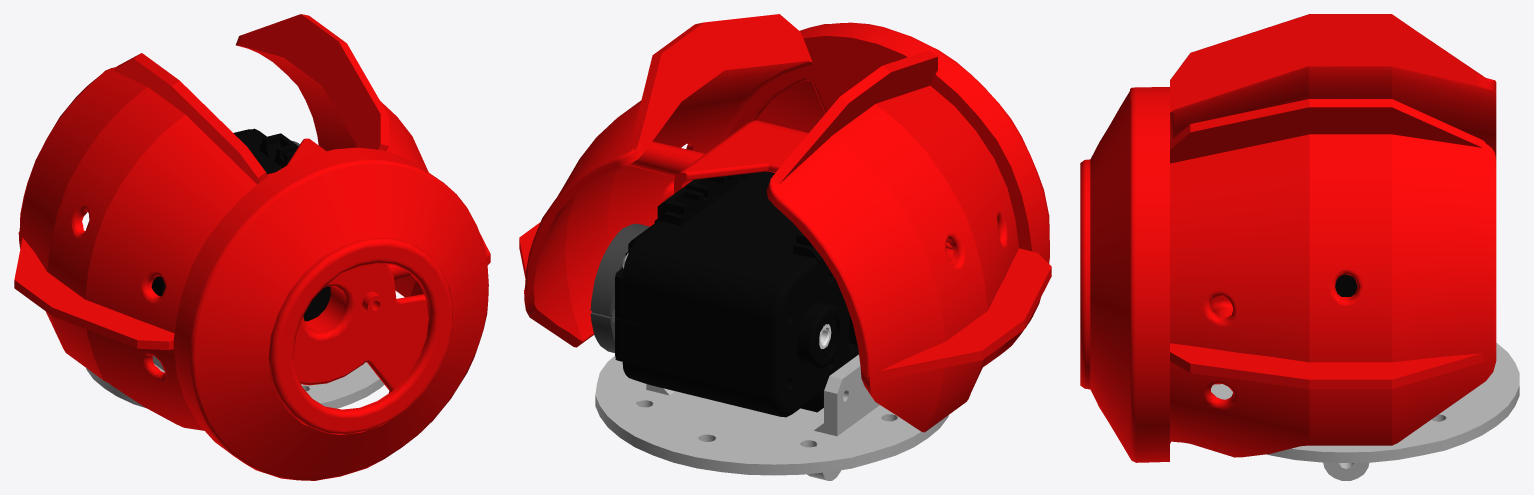
Rendered from head.obj.
3 views of the same model, side by side, from view 1: azimuth 30°, elevation 25°; view 2: azimuth 150°, elevation 25°; view 3: azimuth 270°, elevation 25° (orthographic). The views are drawn at different scales.
Parts seen in each view (by area): view 1: Solid1, ASSY_DUMMY___; view 2: Solid1, ASSY_DUMMY___, DC04_B01_HORN2_DUMMY; view 3: Solid1.
Part boxes in pixels (left/top/right/bottom): Solid1: left=14, top=14, right=490, bottom=480; ASSY_DUMMY___: left=151, top=128, right=330, bottom=321; Solid1: left=519, top=14, right=1051, bottom=480; ASSY_DUMMY___: left=615, top=171, right=858, bottom=417; DC04_B01_HORN2_DUMMY: left=590, top=223, right=649, bottom=352; Solid1: left=1080, top=14, right=1519, bottom=480.
Size of the model in its own units: 3.54 by 2.97 by 2.99.
